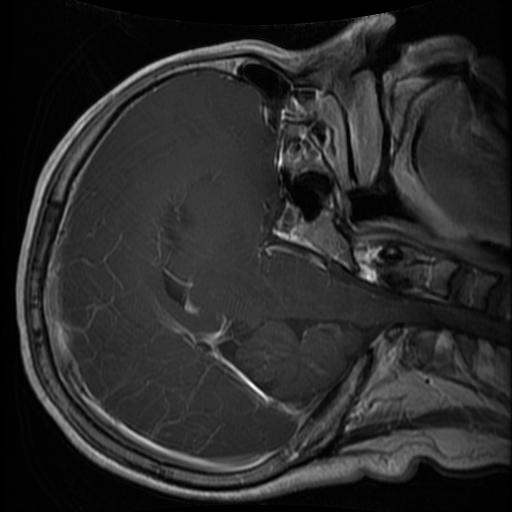glioma: (154, 172, 221, 258)
